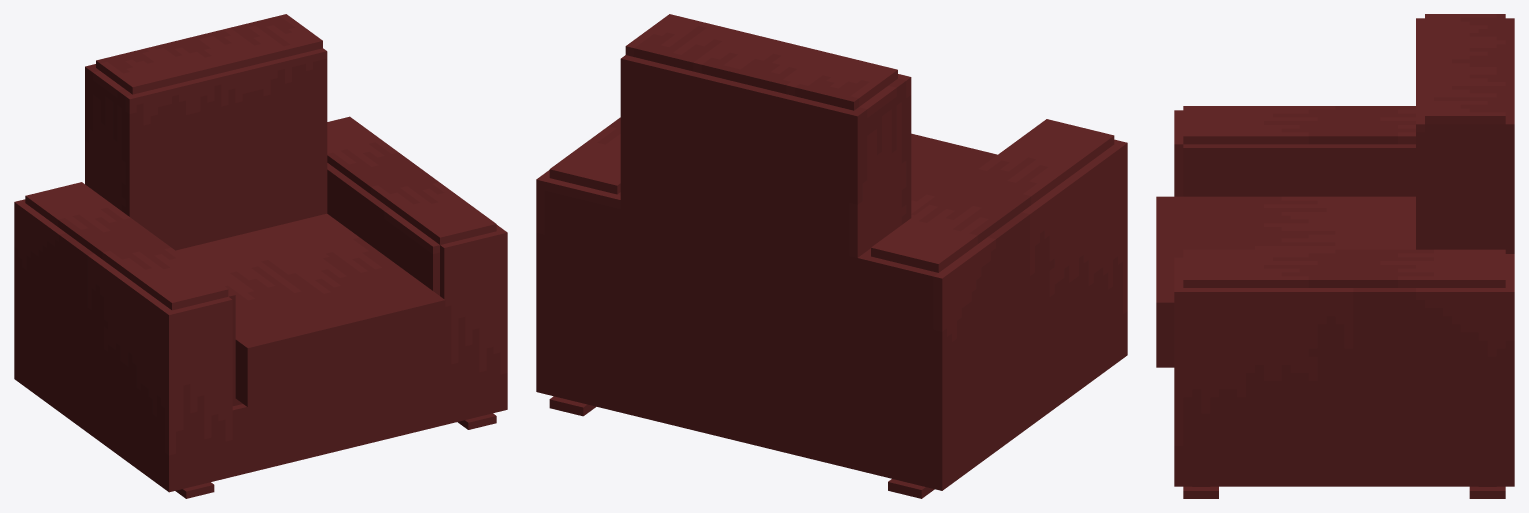
File: Decor-22.obj
3 views of the same model, side by side, from view 1: azimuth 30°, elevation 25°; view 2: azimuth 150°, elevation 25°; view 3: azimuth 270°, elevation 25° (orthographic). The views are drawn at different scales.
Bounding box in the file's own units: 4.8 × 4.3 × 4.
Materials: 1 (1 with a texture image).
